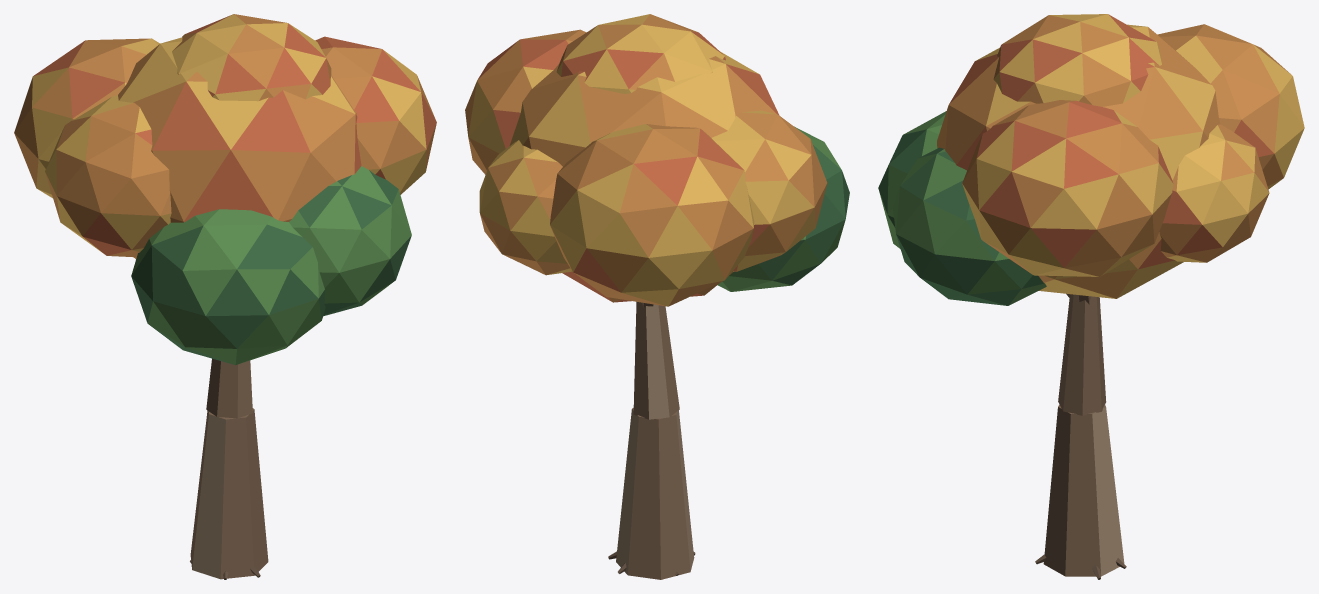
Rendered from tree_oak_autumn.glb.
3 views of the same model, side by side, from view 1: azimuth 30°, elevation 25°; view 2: azimuth 150°, elevation 25°; view 3: azimuth 270°, elevation 25° (orthographic). The views are drawn at different scales.
Parts seen in each view (by area): view 1: tree_oak_autumn; view 2: tree_oak_autumn; view 3: tree_oak_autumn.
Boxes of the visible parts, left/top/right/bottom form: tree_oak_autumn: left=14, top=14, right=436, bottom=579; tree_oak_autumn: left=465, top=14, right=849, bottom=579; tree_oak_autumn: left=878, top=14, right=1304, bottom=579.
Size of the model in its own units: 4.19 by 6.12 by 4.32.
